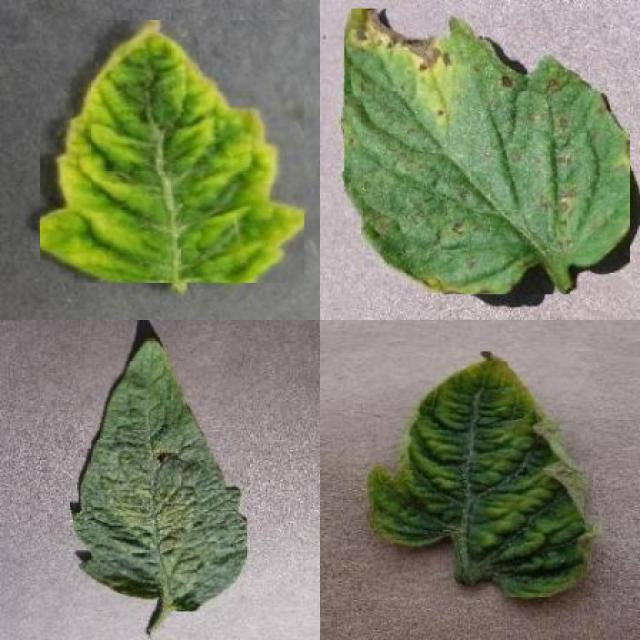Septoria: (344, 9, 630, 294)
Spider Mites: (73, 338, 247, 611)
Yellow Leaf Curl Virus: (40, 20, 304, 284), (366, 352, 593, 598)
